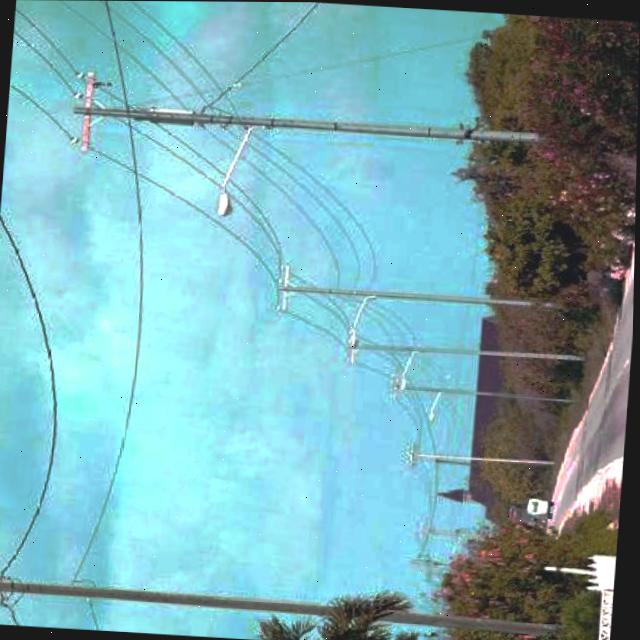poles: (60, 59, 539, 183), (0, 560, 577, 640), (261, 247, 535, 337), (398, 424, 567, 480)
wires: (96, 129, 403, 274), (10, 0, 241, 145), (0, 199, 67, 575)
